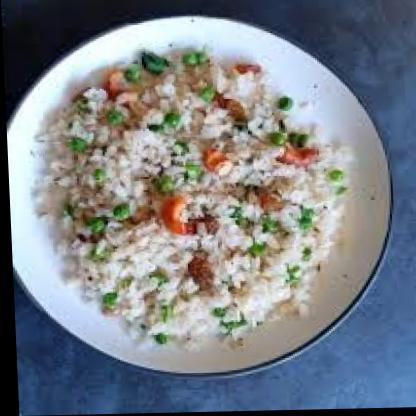poha: (25, 50, 360, 355)
